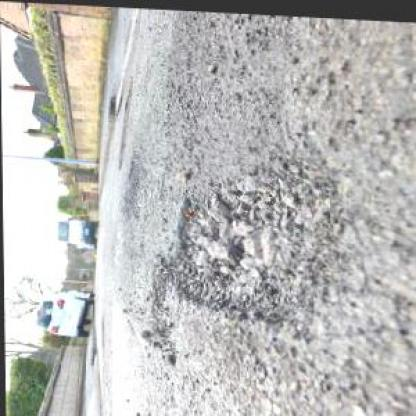pothole: (155, 148, 341, 334)
